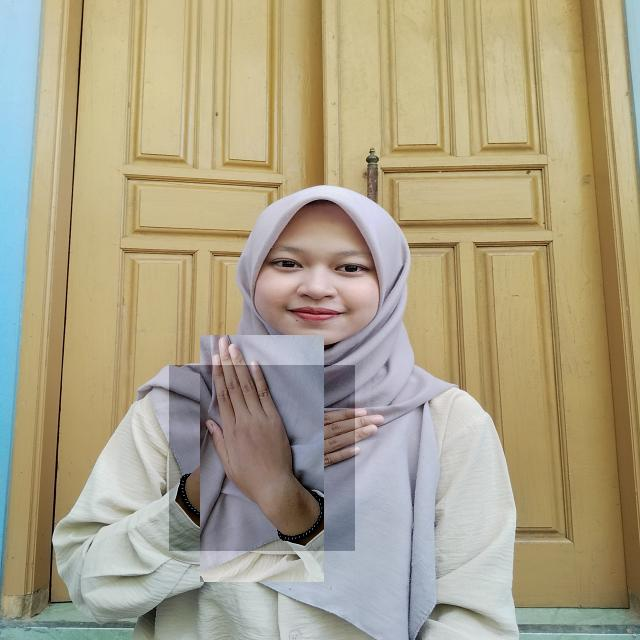tolong: (169, 365, 355, 551)
